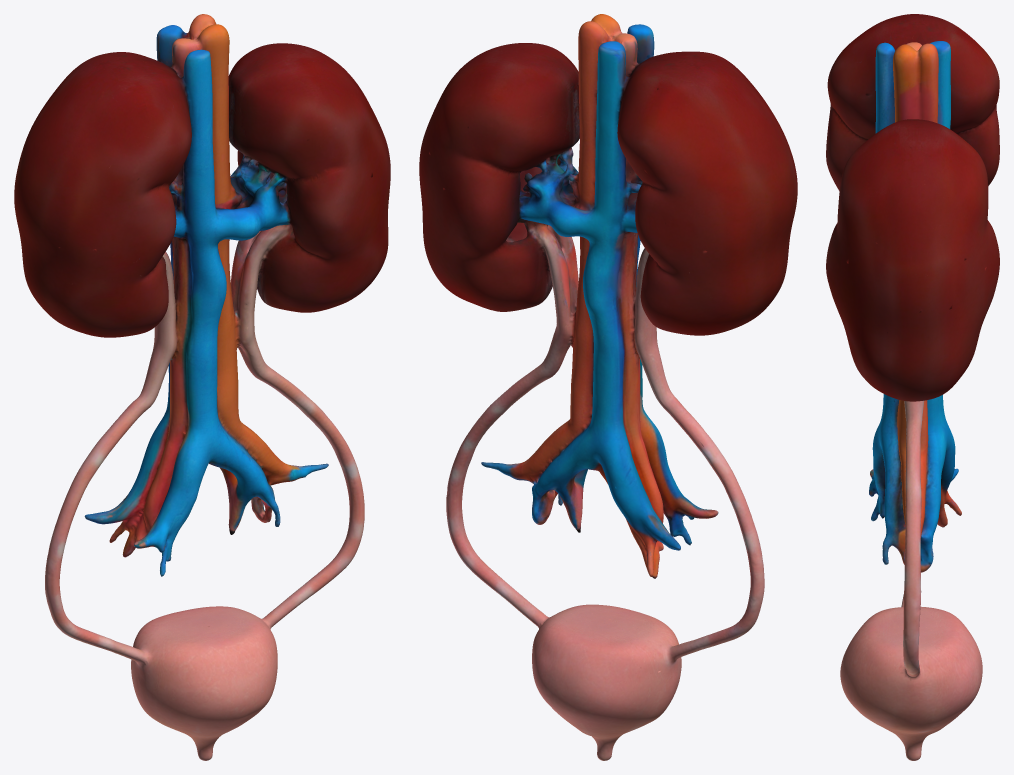
File: kidney.glb
3 renders of one model, left to right at view 1: azimuth 30°, elevation 25°; view 2: azimuth 150°, elevation 25°; view 3: azimuth 270°, elevation 25°, orthographic. The views are drawn at different scales.
Size of the model in its own units: 1.02 by 2 by 0.4392.
1 material, 1 textured.
